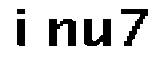7: (118, 4, 150, 49)
i: (9, 7, 33, 48)
n: (44, 17, 78, 51)
u: (82, 16, 115, 48)
